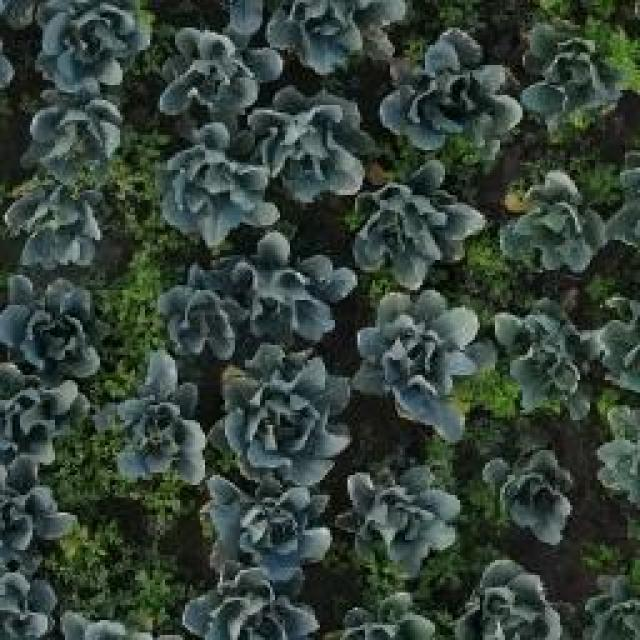cabbage: (356, 290, 489, 434), (384, 30, 521, 158), (227, 358, 350, 487), (356, 164, 484, 286), (155, 122, 279, 247), (101, 351, 210, 485), (157, 3, 279, 118), (202, 477, 332, 584), (490, 296, 598, 424), (253, 86, 369, 201), (341, 462, 460, 573), (238, 231, 356, 337), (497, 168, 612, 274), (522, 20, 630, 131), (25, 0, 155, 91), (0, 273, 106, 380), (22, 88, 130, 186), (447, 555, 567, 640), (2, 175, 107, 272), (265, 0, 403, 70), (479, 444, 572, 545), (154, 264, 250, 360)
